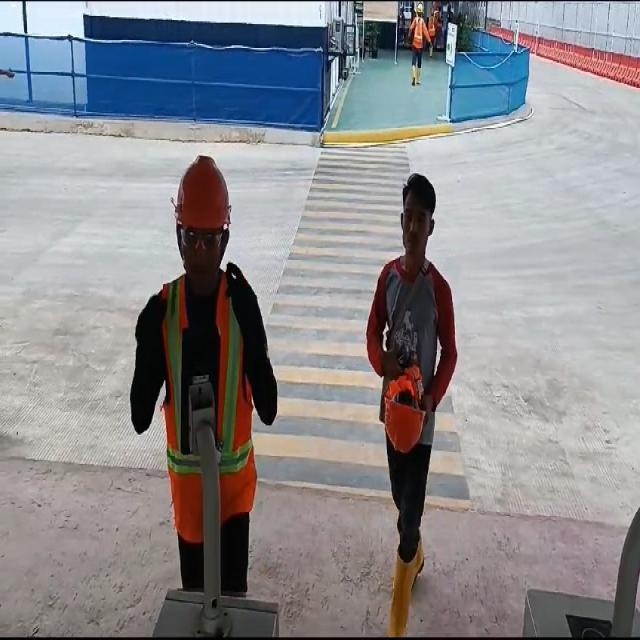goggles: (172, 223, 227, 254)
helmet: (174, 154, 231, 230), (385, 383, 422, 450)
safety_vest: (161, 272, 254, 549), (422, 3, 442, 44), (410, 19, 425, 49)
